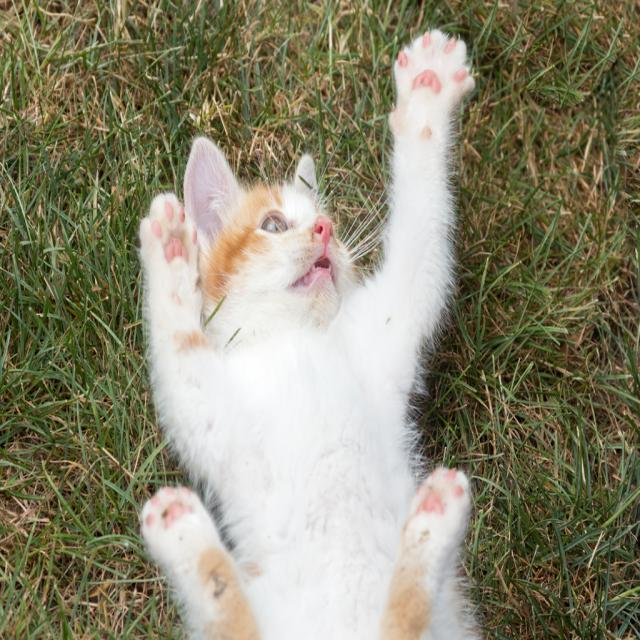Cat: (137, 26, 475, 639)
